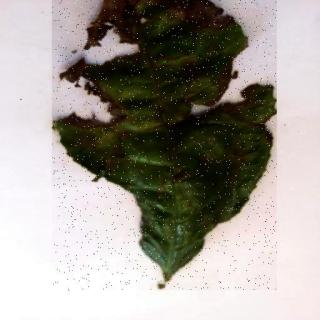Algal Leaf: (53, 1, 278, 292)
